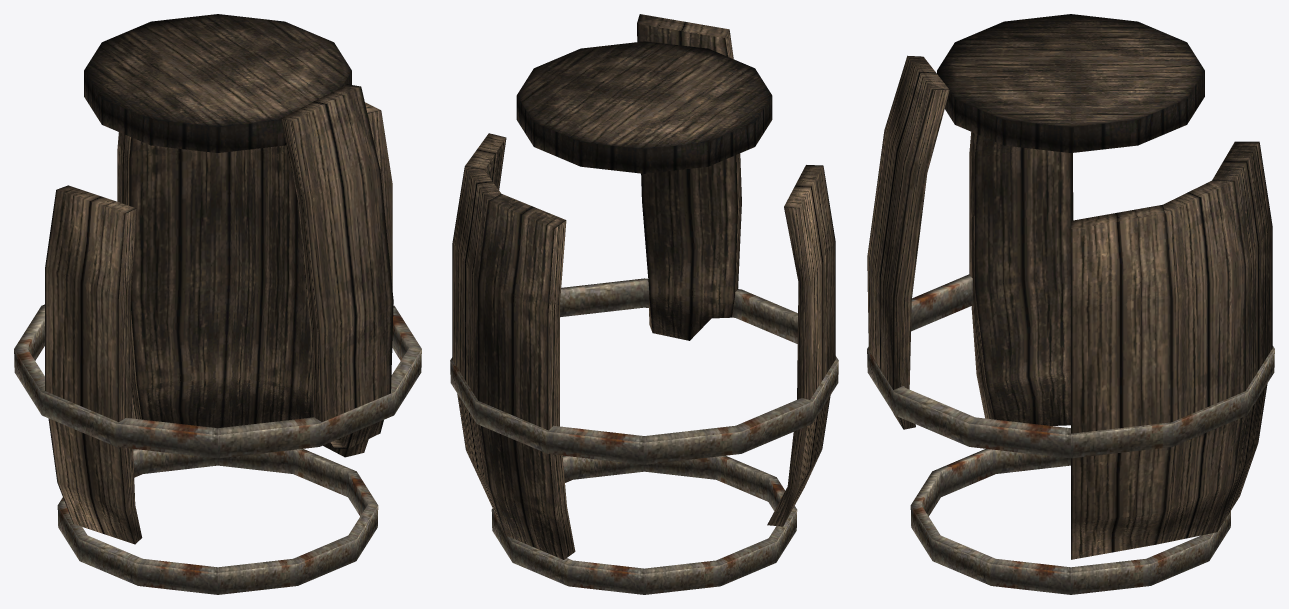
File: barrel01_broken.dae
3 views of the same model, side by side, from view 1: azimuth 30°, elevation 25°; view 2: azimuth 150°, elevation 25°; view 3: azimuth 270°, elevation 25° (orthographic). The views are drawn at different scales.
Visible parts, largest first — view 1: barrel_woodpiece01, barrel_lid, barrel_woodpiece02, barrel_woodpiece03, barrel_ring01, barrel_ring02; view 2: barrel_woodpiece01, barrel_lid, barrel_woodpiece02, barrel_ring02, barrel_ring01, barrel_woodpiece03; view 3: barrel_woodpiece01, barrel_lid, barrel_woodpiece03, barrel_woodpiece02, barrel_ring02, barrel_ring01.
Boxes of the visible parts, x1=… form: barrel_woodpiece01: x1=117, y1=102, x2=392, y2=457; barrel_lid: x1=84, y1=14, x2=351, y2=152; barrel_woodpiece02: x1=281, y1=84, x2=393, y2=449; barrel_woodpiece03: x1=45, y1=185, x2=142, y2=544; barrel_ring01: x1=57, y1=449, x2=378, y2=594; barrel_ring02: x1=14, y1=304, x2=421, y2=458; barrel_woodpiece01: x1=452, y1=133, x2=575, y2=559; barrel_lid: x1=516, y1=41, x2=772, y2=173; barrel_woodpiece02: x1=637, y1=14, x2=741, y2=340; barrel_ring02: x1=450, y1=278, x2=838, y2=464; barrel_ring01: x1=491, y1=455, x2=797, y2=594; barrel_woodpiece03: x1=767, y1=165, x2=835, y2=526; barrel_woodpiece01: x1=1071, y1=141, x2=1272, y2=559; barrel_lid: x1=937, y1=14, x2=1204, y2=152; barrel_woodpiece03: x1=969, y1=132, x2=1073, y2=425; barrel_woodpiece02: x1=867, y1=55, x2=949, y2=429; barrel_ring02: x1=867, y1=274, x2=1274, y2=458; barrel_ring01: x1=910, y1=449, x2=1230, y2=594.
Size of the model in its own units: 0.6888 by 0.8851 by 0.6888.
